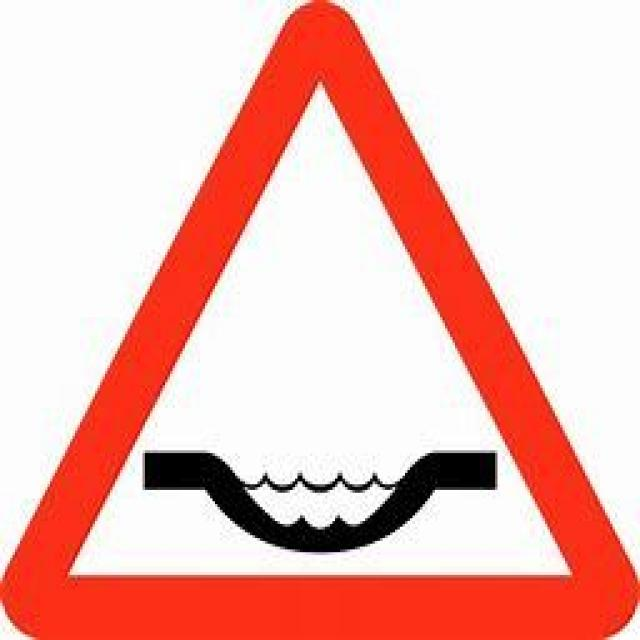DANGEROUS_DIP: (0, 0, 638, 637)
